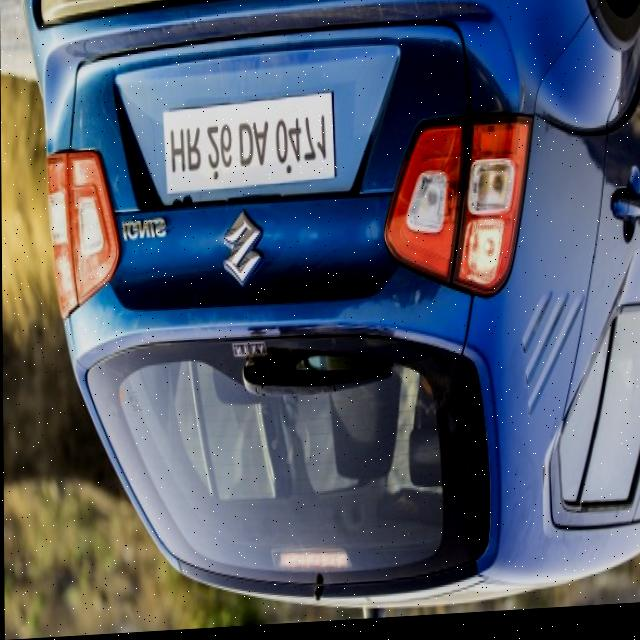plate: (162, 84, 334, 197)
